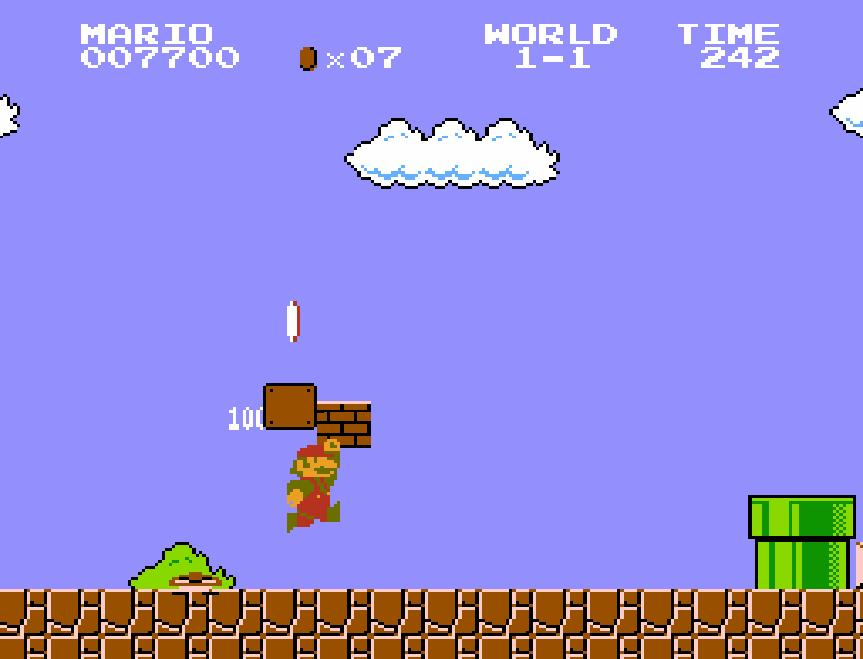big_mario: (284, 437, 342, 535)
